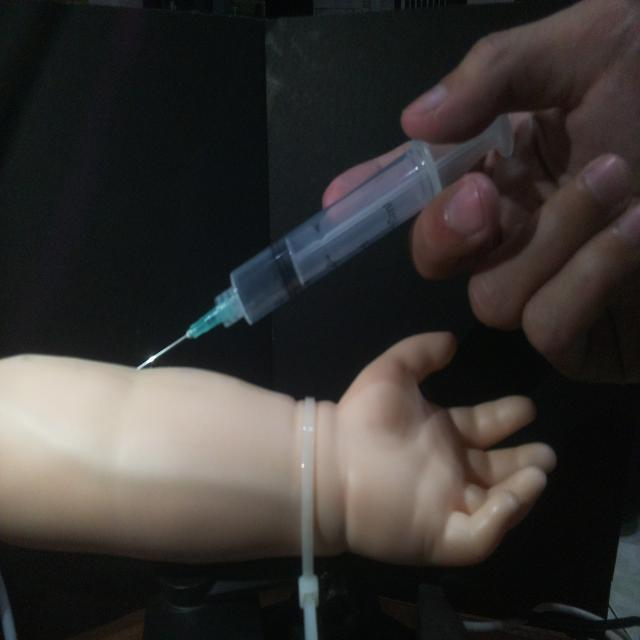22deg: (132, 109, 517, 372)
